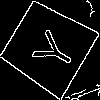Y: (23, 22, 80, 76)
